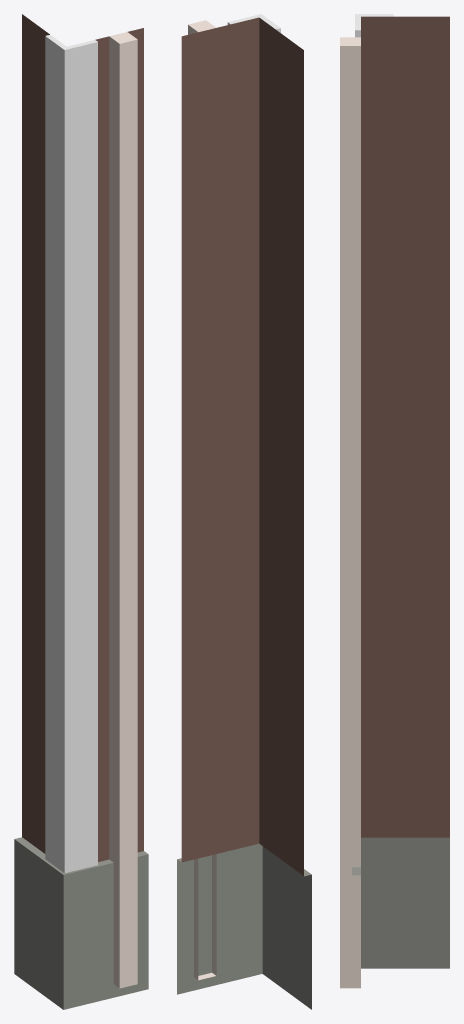
3 views of the same model, side by side, from view 1: azimuth 30°, elevation 25°; view 2: azimuth 210°, elevation 25°; view 3: azimuth 270°, elevation 25° (orthographic).
Parts seen in each view (by area): view 1: a2000s2/0/base-c1; view 2: a2000s2/0/base-c1; view 3: a2000s2/0/base-c1.
Boxes of the visible parts, x1,y1,x2,y2 form: a2000s2/0/base-c1: (14, 14, 148, 1009); a2000s2/0/base-c1: (177, 14, 311, 1009); a2000s2/0/base-c1: (340, 14, 449, 988).
Size of the model in its own units: 0.33 by 3.55 by 0.37.
